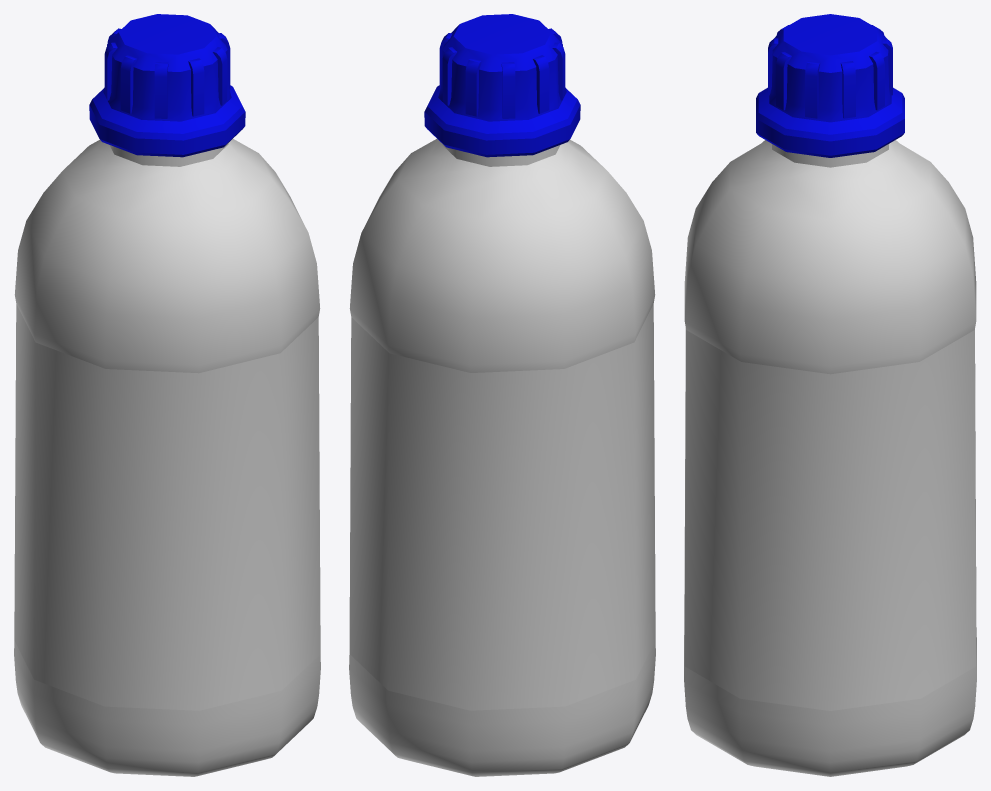
The model's file is Alkohol 95_.fbx.
3 views of the same model, side by side, from view 1: azimuth 30°, elevation 25°; view 2: azimuth 150°, elevation 25°; view 3: azimuth 270°, elevation 25° (orthographic).
Visible parts, largest first — view 1: botol Alkohol, tutup; view 2: botol Alkohol, tutup; view 3: botol Alkohol, tutup.
Boxes of the visible parts, x1,y1,x2,y2 form: botol Alkohol: (14,139,320,776); tutup: (89,14,245,157); botol Alkohol: (349,139,655,776); tutup: (424,14,580,157); botol Alkohol: (684,140,976,776); tutup: (756,14,904,157).
Bounding box in the file's own units: 13.1 × 32.31 × 12.46.
